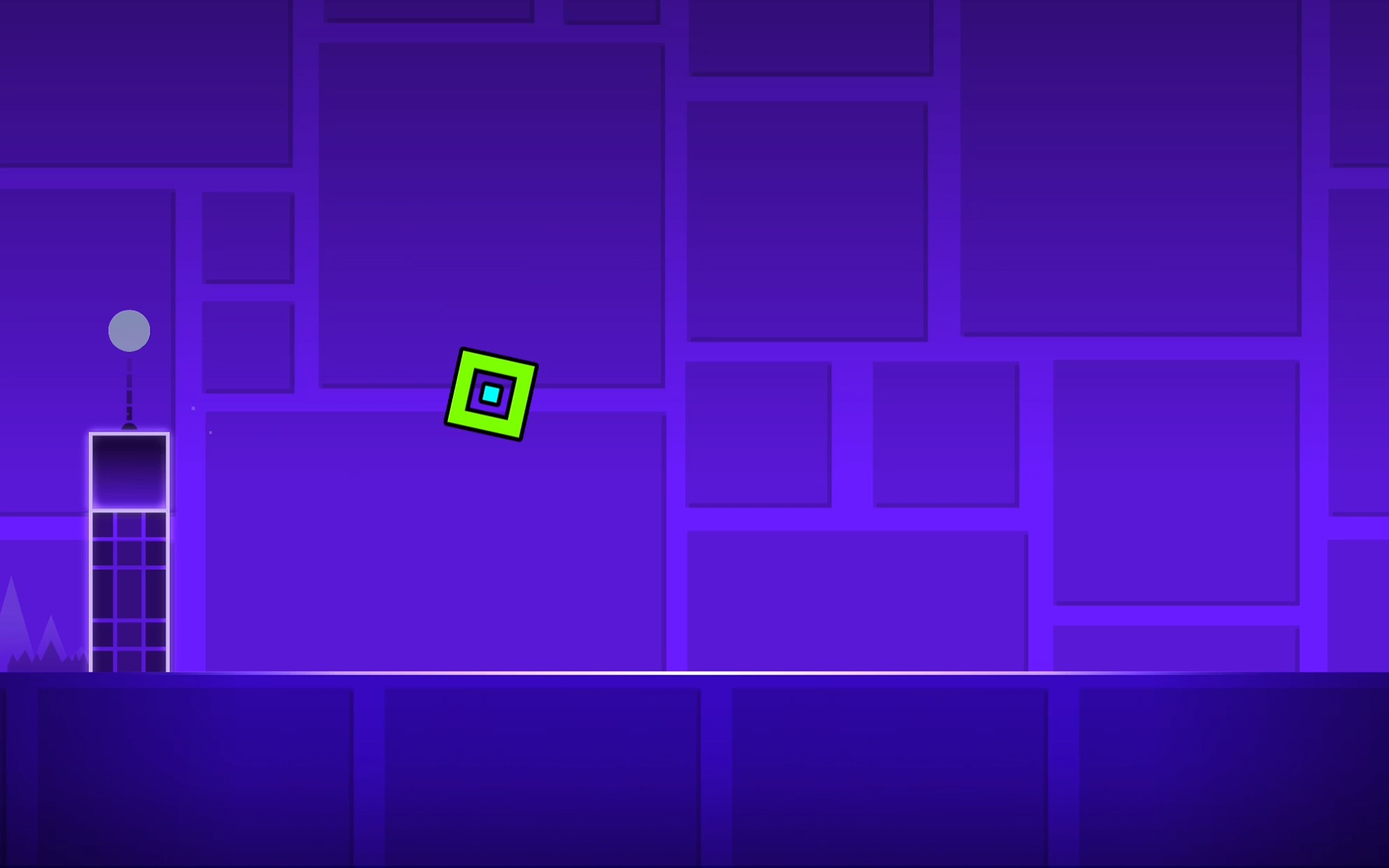Block: (90, 436, 170, 512)
Block2: (91, 514, 170, 671)
Player: (445, 347, 538, 440)
